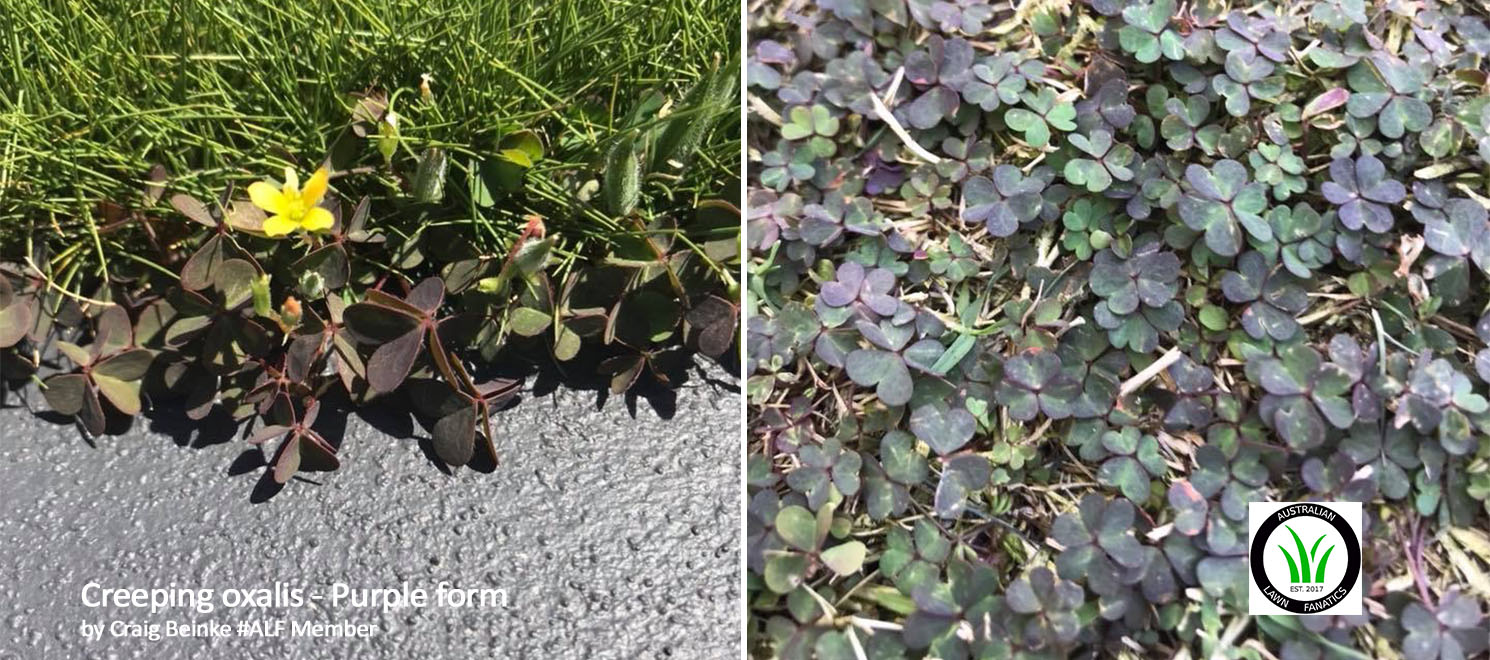oxalis: (816, 25, 1483, 660), (36, 183, 692, 441)
